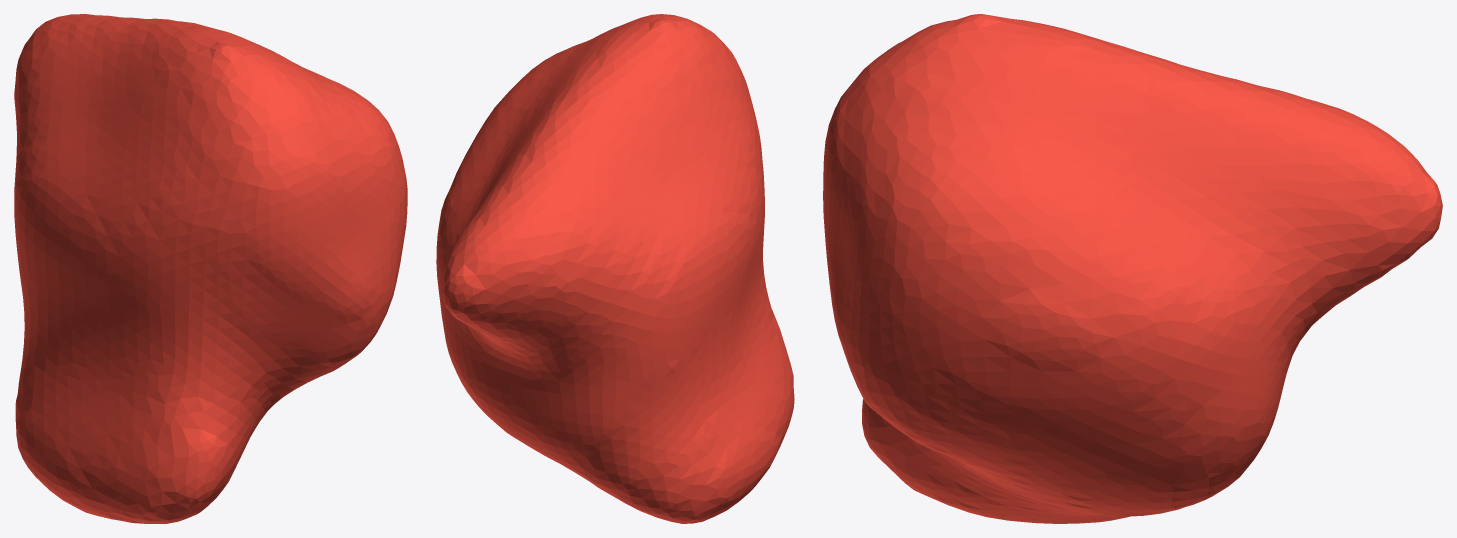
File: case_17_stroke.gltf
The picture shows the model from 3 angles, left to right: view 1: azimuth 30°, elevation 25°; view 2: azimuth 150°, elevation 25°; view 3: azimuth 270°, elevation 25°; orthographic projection. The views are drawn at different scales.
Parts seen in each view (by area): view 1: stroke; view 2: stroke; view 3: stroke.
Boxes of the visible parts, x1,y1,x2,y2 form: stroke: (14,14,407,523); stroke: (436,14,794,523); stroke: (823,14,1442,523).
Size of the model in its own units: 1.19 by 1.67 by 1.72.
